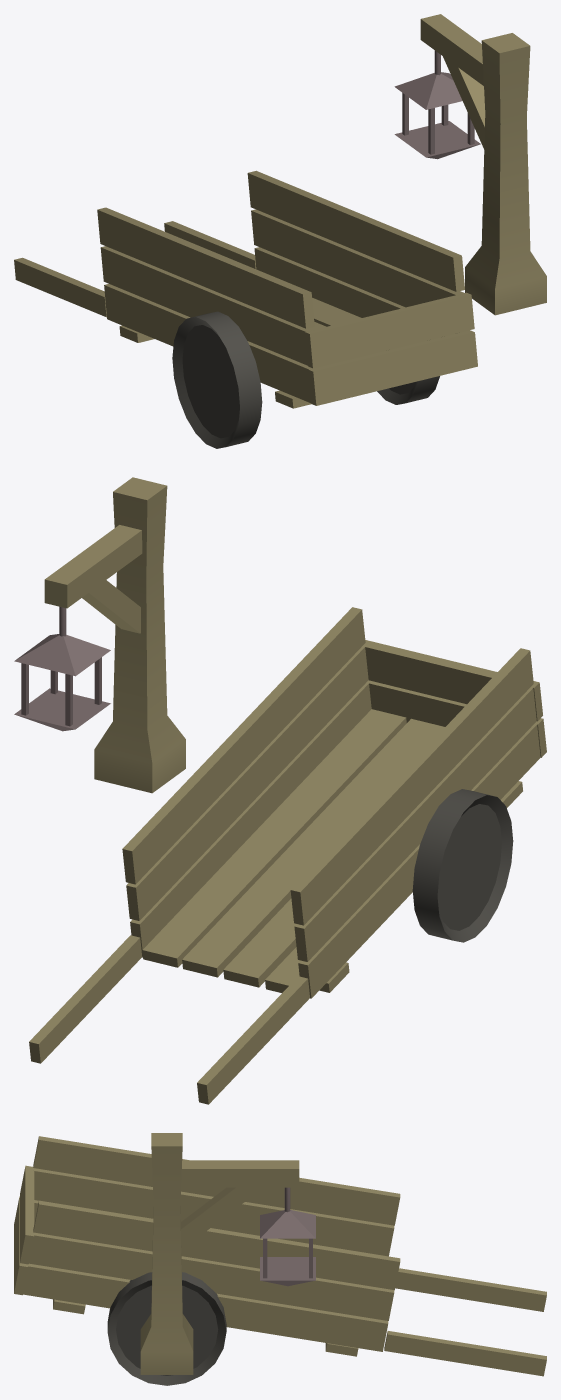
Rendered from assetxternos.fbx.
3 renders of one model, top to bottom at view 1: azimuth 30°, elevation 25°; view 2: azimuth 150°, elevation 25°; view 3: azimuth 270°, elevation 25°, orthographic. The views are drawn at different scales.
Parts seen in each view (by area): view 1: polySurface146, pCube386; view 2: polySurface146, pCube386; view 3: polySurface146, pCube386.
Boxes of the visible parts, x1,y1,x2,y2 form: polySurface146: (14,170,477,448); pCube386: (394,14,546,315); polySurface146: (29,607,546,1104); pCube386: (14,477,185,793); polySurface146: (14,1136,546,1385); pCube386: (140,1133,315,1374).
Size of the model in its own units: 77.1 by 73.73 by 124.
